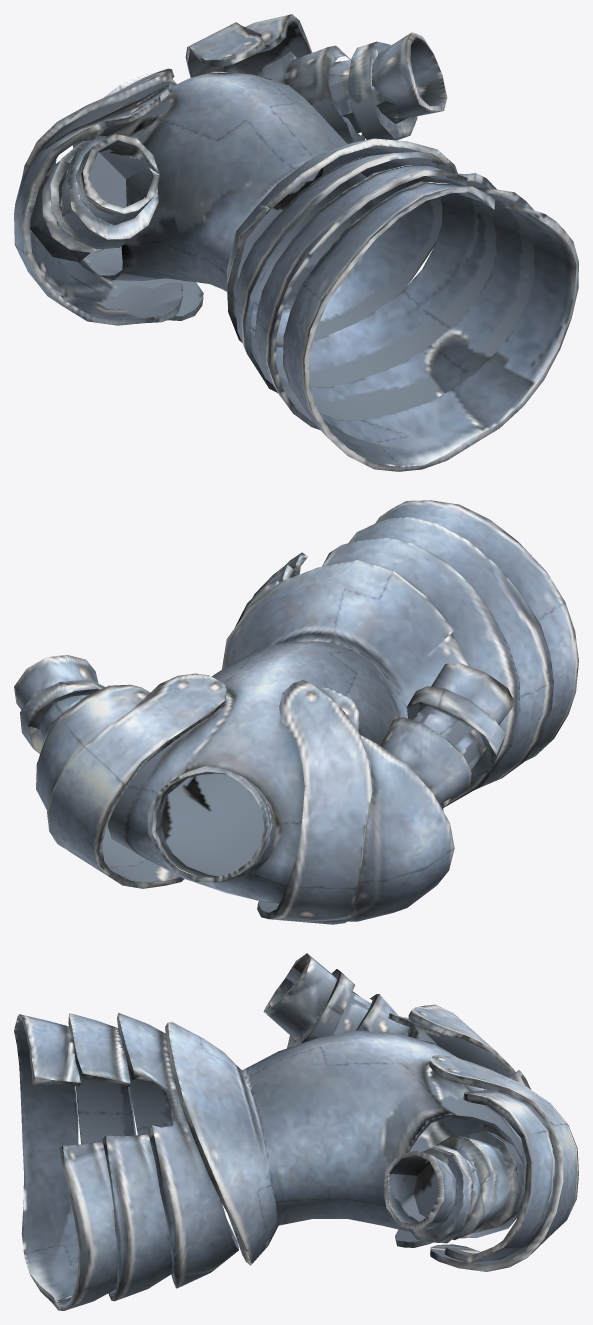
The model's file is item_mm9_10110.glb.
3 renders of one model, top to bottom at view 1: azimuth 30°, elevation 25°; view 2: azimuth 150°, elevation 25°; view 3: azimuth 270°, elevation 25°, orthographic. The views are drawn at different scales.
Parts seen in each view (by area): view 1: d10110; view 2: d10110; view 3: d10110.
Boxes of the visible parts, box(x1,y1,x2,y2) form: d10110: box(14, 14, 578, 471); d10110: box(14, 500, 578, 924); d10110: box(14, 953, 578, 1310).
Bounding box in the file's own units: 0.8698 × 0.53 × 1.04.
1 material, 1 textured.
